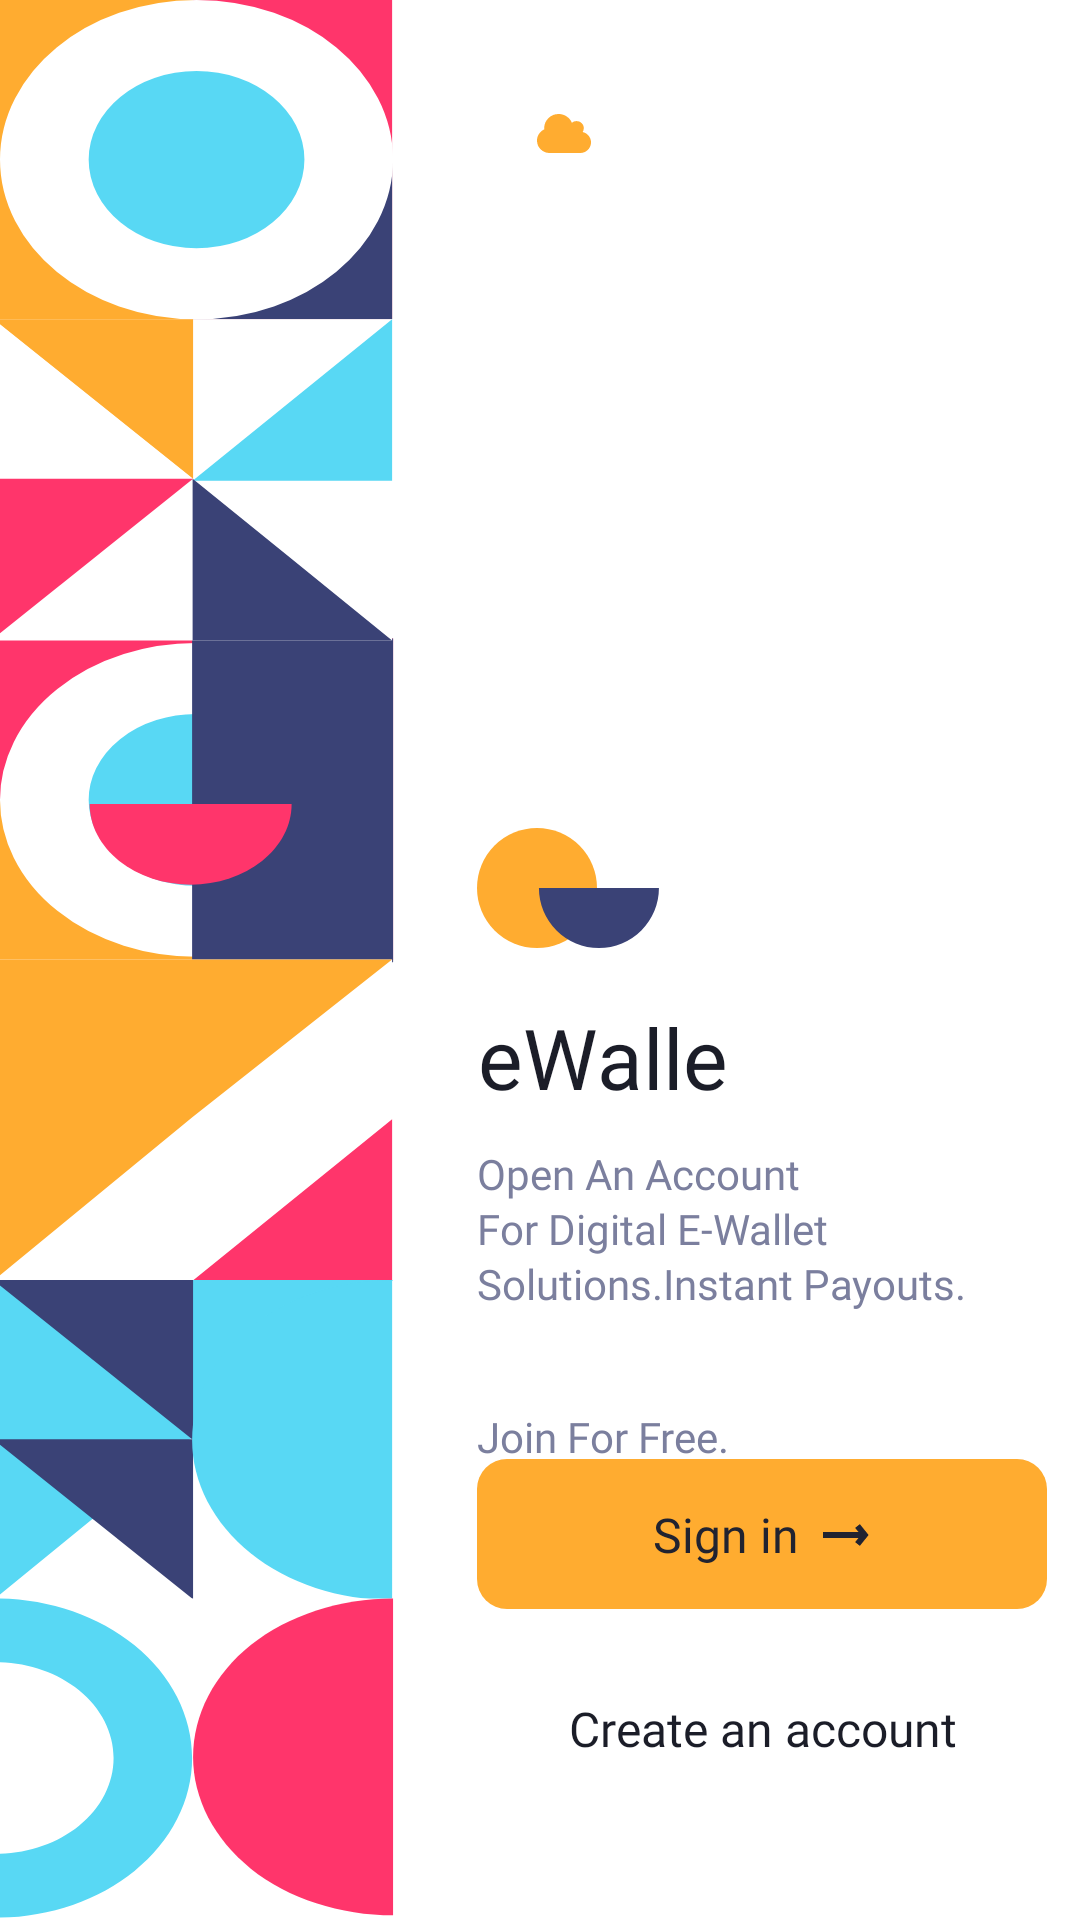

Icons on this 1080 × 1920 Android screen, each with its box as (x1, y1, x2, y2):
weather: (537, 114, 591, 153)
